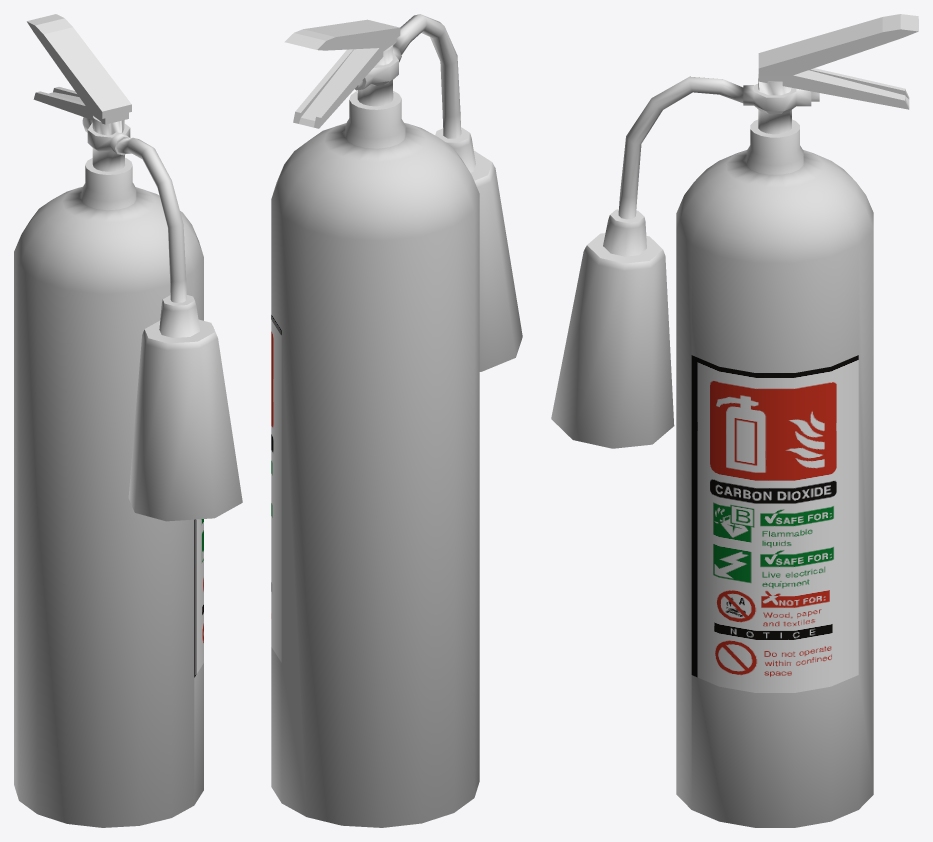
File: FireExtinguisher.fbx
3 views of the same model, side by side, from view 1: azimuth 30°, elevation 25°; view 2: azimuth 150°, elevation 25°; view 3: azimuth 270°, elevation 25° (orthographic). The views are drawn at different scales.
Visible parts, largest first — view 1: FireExtinguisher; view 2: FireExtinguisher; view 3: FireExtinguisher.
Part boxes in pixels (<box>): FireExtinguisher: <box>14,14,242,827</box>; FireExtinguisher: <box>271,14,522,827</box>; FireExtinguisher: <box>551,14,918,827</box>.
Bounding box in the file's own units: 61.38 × 262 × 114.
